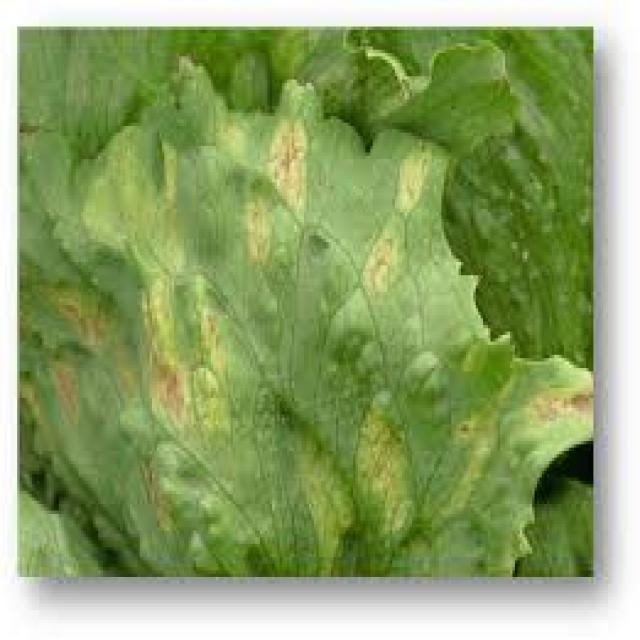Downy_Mildew: (138, 116, 354, 461)
